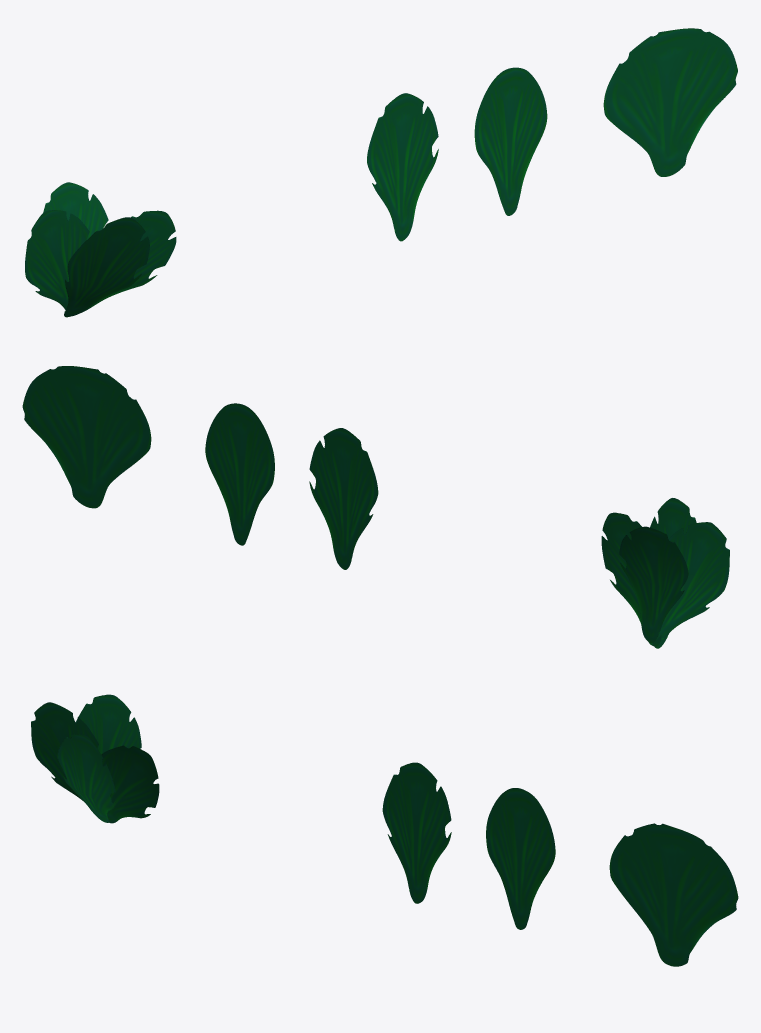
The picture shows the model from 3 angles, top to bottom: view 1: azimuth 30°, elevation 25°; view 2: azimuth 150°, elevation 25°; view 3: azimuth 330°, elevation 25°; orthographic projection. The views are drawn at different scales.
Visible parts, largest first — view 1: Plane.042, Plane.012, Plane.013, Plane.014; view 2: Plane.042, Plane.012, Plane.013, Plane.014; view 3: Plane.012, Plane.042, Plane.013, Plane.014.
Part boxes in pixels (x1=…): Plane.042: x1=25, y1=182, x2=176, y2=317; Plane.012: x1=603, y1=28, x2=737, y2=176; Plane.013: x1=474, y1=67, x2=547, y2=215; Plane.014: x1=367, y1=93, x2=438, y2=241; Plane.042: x1=601, y1=498, x2=729, y2=648; Plane.012: x1=22, y1=366, x2=151, y2=508; Plane.013: x1=205, y1=403, x2=274, y2=545; Plane.014: x1=309, y1=428, x2=378, y2=569; Plane.012: x1=609, y1=823, x2=738, y2=966; Plane.042: x1=31, y1=694, x2=159, y2=823; Plane.013: x1=486, y1=788, x2=555, y2=929; Plane.014: x1=382, y1=762, x2=451, y2=903.
Bounding box in the file's own units: 1016 × 280 × 111.
1 material, 1 textured.
